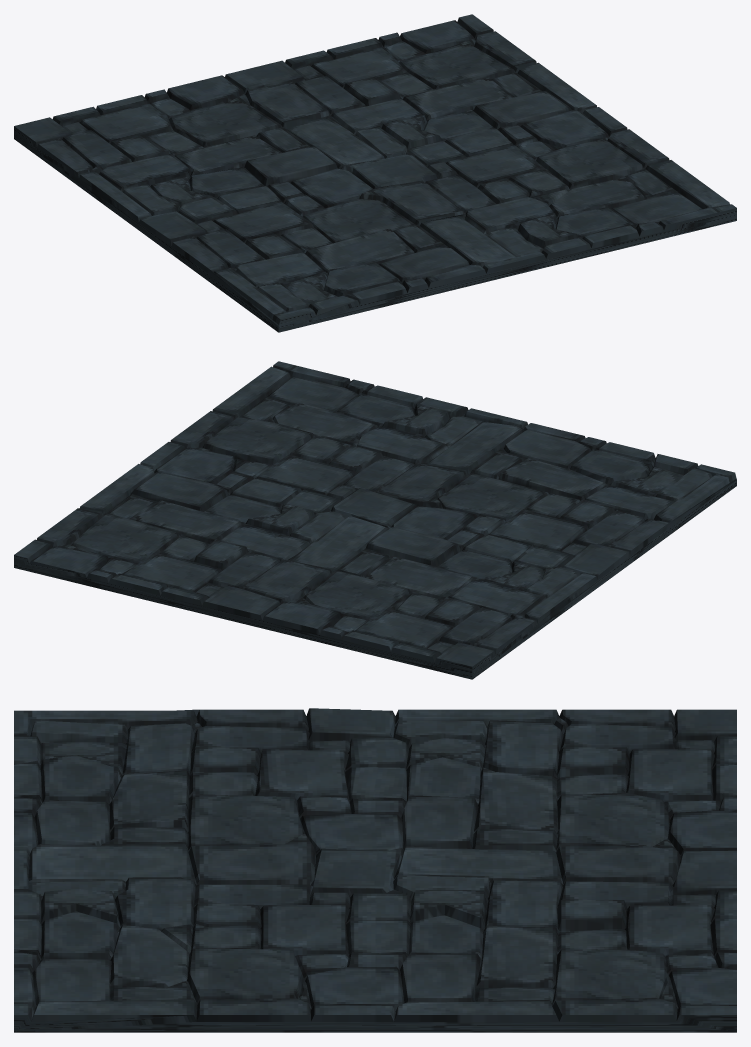
Rendered from floorLarge.fbx.
3 views of the same model, one above another, from view 1: azimuth 30°, elevation 25°; view 2: azimuth 150°, elevation 25°; view 3: azimuth 270°, elevation 25° (orthographic). The views are drawn at different scales.
Parts seen in each view (by area): view 1: floorLarge; view 2: floorLarge; view 3: floorLarge.
Boxes of the visible parts, box(x1,y1,x2,y2) form: floorLarge: box(14, 14, 736, 332); floorLarge: box(14, 361, 736, 679); floorLarge: box(14, 708, 736, 1032).
Size of the model in its own units: 1200 by 40.73 by 1200.
Materials: 1 (1 with a texture image).
